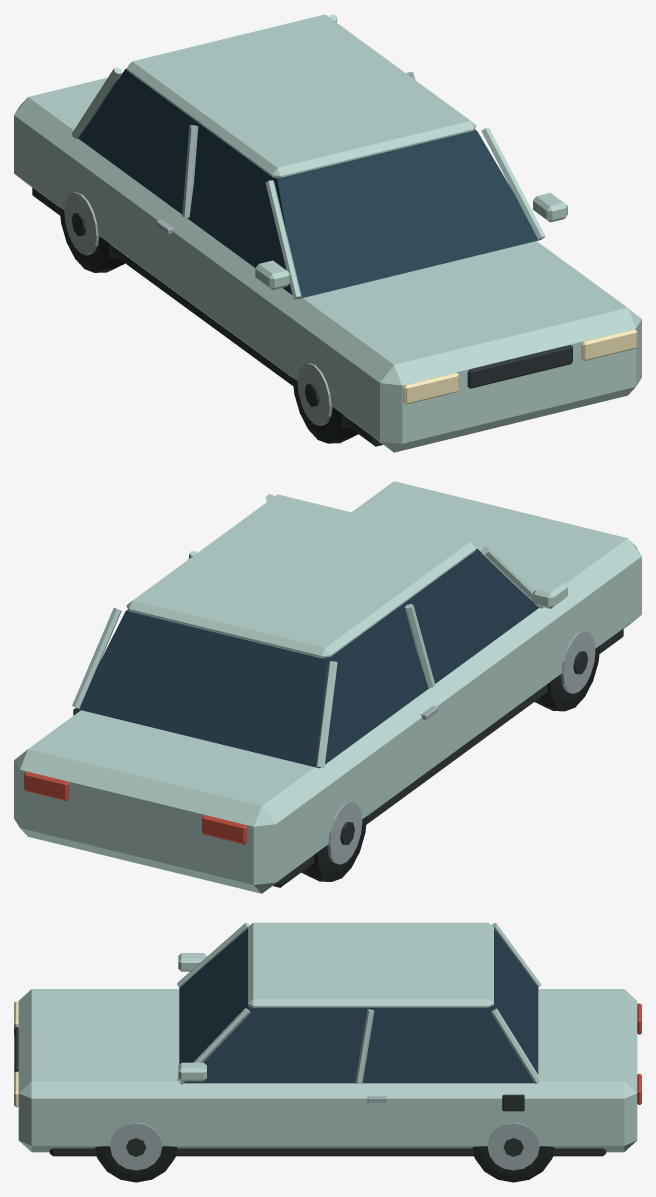
The model's file is car-electric-09.glb.
The picture shows the model from 3 angles, top to bottom: view 1: azimuth 30°, elevation 25°; view 2: azimuth 150°, elevation 25°; view 3: azimuth 270°, elevation 25°; orthographic projection. The views are drawn at different scales.
Parts seen in each view (by area): view 1: Body, Glass, Roof, Sill, FrontGrille, Rim_FR, Rim_RR, Tyre_FR, Tyre_RR, Lamp_Head.001, Lamp_Head, WindowPillar (+5 smaller); view 2: Body, Glass, Roof, Sill, Rim_FR, Rim_RR, Tyre_FR, Tyre_RR, WindowPillar.002, WindowPillar.005, Lamp_Tail.001, Lamp_Tail (+3 smaller); view 3: Body, Glass, Roof, Sill, Rim_FL, Rim_RL, Tyre_FL, Tyre_RL, WindowPillar.005, WindowPillar.003, WindowPillar.004, Mirror.001 (+4 smaller).
Part boxes in pixels (x1,y1,x2,y2): Body: [14, 74, 641, 452]; Glass: [78, 68, 541, 298]; Roof: [126, 14, 476, 178]; Sill: [32, 187, 382, 446]; FrontGrille: [467, 345, 572, 388]; Rim_FR: [297, 363, 332, 426]; Rim_RR: [64, 192, 99, 255]; Tyre_FR: [292, 378, 358, 443]; Tyre_RR: [59, 207, 124, 272]; Lamp_Head.001: [581, 329, 637, 360]; Lamp_Head: [403, 372, 459, 404]; WindowPillar: [265, 180, 301, 299]; Body: [14, 481, 641, 893]; Glass: [76, 548, 539, 768]; Roof: [126, 494, 476, 658]; Sill: [273, 628, 623, 887]; Rim_FR: [560, 630, 595, 693]; Rim_RR: [327, 801, 362, 864]; Tyre_FR: [534, 645, 600, 711]; Tyre_RR: [301, 816, 366, 881]; WindowPillar.002: [315, 661, 337, 767]; WindowPillar.005: [72, 607, 121, 708]; Lamp_Tail.001: [24, 771, 69, 800]; Lamp_Tail: [202, 815, 247, 844]; Body: [18, 989, 637, 1152]; Glass: [179, 928, 538, 1083]; Roof: [248, 922, 493, 1007]; Sill: [49, 1148, 606, 1156]; Rim_FL: [110, 1122, 162, 1170]; Rim_RL: [487, 1122, 539, 1170]; Tyre_FL: [95, 1146, 176, 1182]; Tyre_RL: [472, 1146, 554, 1182]; WindowPillar.005: [491, 1008, 541, 1083]; WindowPillar.003: [177, 1008, 250, 1084]; WindowPillar.004: [355, 1009, 374, 1083]; Mirror.001: [178, 1062, 206, 1081].
Bounding box in the file's own units: 2.12 × 1.45 × 4.77.
